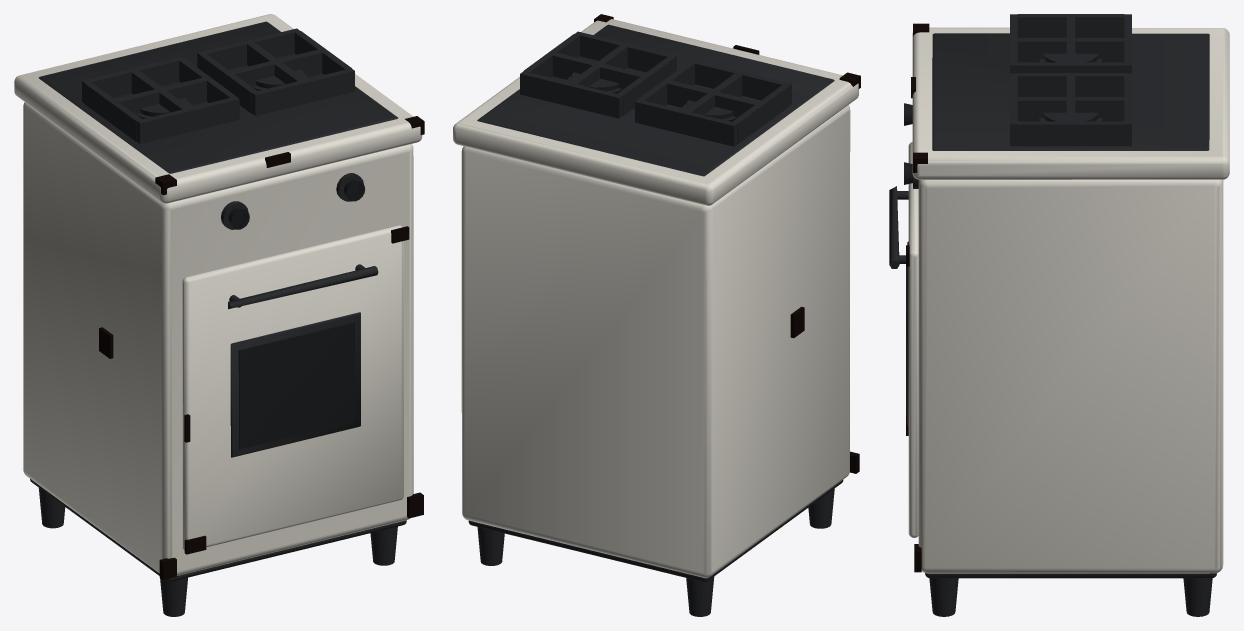
The model's file is kitchen_stove.glb.
3 renders of one model, left to right at view 1: azimuth 30°, elevation 25°; view 2: azimuth 150°, elevation 25°; view 3: azimuth 270°, elevation 25°, orthographic. The views are drawn at different scales.
Parts seen in each view (by area): view 1: Govde_Beyaz_Emaye, Firin_Kapak_Panel, Ust_Tabla_Emaye, Ust_Pisirme_Cukuru, Firin_Gozetleme_Cami, Firin_Cam_Cerceve, Izgara_Sol_Cerceve_On, Izgara_Sag_Cerceve_On, Izgara_Sol_Cerceve_Arka, Izgara_Sag_Cerceve_Arka, Govde_Alt_Taban, Izgara_Sag_Kol_X (+11 smaller); view 2: Govde_Beyaz_Emaye, Ust_Tabla_Emaye, Ust_Pisirme_Cukuru, Izgara_Sol_Cerceve_Arka, Izgara_Sag_Cerceve_Arka, Izgara_Sol_Cerceve_On, Izgara_Sag_Cerceve_On, Govde_Alt_Taban, Izgara_Sag_Kol_X, Izgara_Sol_Cerceve_Sol, Izgara_Sol_Kol_X, Izgara_Sag_Cerceve_Sol (+7 smaller); view 3: Govde_Beyaz_Emaye, Ust_Pisirme_Cukuru, Ust_Tabla_Emaye, Firin_Kapak_Panel, Izgara_Sag_Cerceve_Sag, Izgara_Sol_Cerceve_Sol, Izgara_Sag_Cerceve_Sol, Izgara_Sag_Kol_Z, Izgara_Sol_Kol_Z, Govde_Alt_Taban, Izgara_Sol_Cerceve_Sag, Ayak_On_Sag (+6 smaller).
Boxes of the visible parts, x1,y1,x2,y2 form: Govde_Beyaz_Emaye: [23, 102, 413, 575]; Firin_Kapak_Panel: [182, 225, 403, 550]; Ust_Tabla_Emaye: [14, 14, 422, 203]; Ust_Pisirme_Cukuru: [39, 21, 397, 173]; Firin_Gozetleme_Cami: [238, 322, 354, 449]; Firin_Cam_Cerceve: [230, 312, 360, 457]; Izgara_Sol_Cerceve_On: [136, 96, 239, 144]; Izgara_Sag_Cerceve_On: [251, 68, 354, 115]; Izgara_Sol_Cerceve_Arka: [82, 56, 184, 103]; Izgara_Sag_Cerceve_Arka: [197, 28, 299, 69]; Govde_Alt_Taban: [30, 479, 406, 581]; Izgara_Sag_Kol_X: [230, 49, 322, 86]; Govde_Beyaz_Emaye: [461, 105, 850, 578]; Ust_Tabla_Emaye: [453, 19, 858, 205]; Ust_Pisirme_Cukuru: [477, 24, 834, 176]; Izgara_Sol_Cerceve_Arka: [635, 99, 737, 146]; Izgara_Sag_Cerceve_Arka: [520, 71, 622, 118]; Izgara_Sol_Cerceve_On: [689, 59, 791, 106]; Izgara_Sag_Cerceve_On: [574, 31, 676, 72]; Govde_Alt_Taban: [468, 480, 843, 582]; Izgara_Sag_Kol_X: [552, 52, 644, 89]; Izgara_Sol_Cerceve_Sol: [732, 85, 788, 143]; Izgara_Sol_Kol_X: [667, 80, 758, 117]; Izgara_Sag_Cerceve_Sol: [617, 57, 673, 116]; Govde_Beyaz_Emaye: [918, 179, 1223, 573]; Ust_Pisirme_Cukuru: [932, 33, 1209, 150]; Ust_Tabla_Emaye: [912, 27, 1229, 179]; Firin_Kapak_Panel: [908, 142, 918, 537]; Izgara_Sag_Cerceve_Sag: [1017, 121, 1124, 146]; Izgara_Sol_Cerceve_Sol: [1017, 14, 1124, 37]; Izgara_Sag_Cerceve_Sol: [1017, 73, 1124, 96]; Izgara_Sag_Kol_Z: [1017, 97, 1124, 121]; Izgara_Sol_Kol_Z: [1017, 38, 1124, 62]; Govde_Alt_Taban: [925, 573, 1216, 578]; Izgara_Sol_Cerceve_Sag: [1017, 62, 1124, 72]; Ayak_On_Sag: [929, 578, 958, 616].
Size of the model in its own units: 0.4996 by 0.85 by 0.5356.
4 materials, 1 textured.
